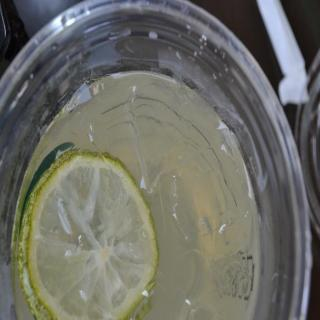Lemon: (17, 148, 156, 316)
